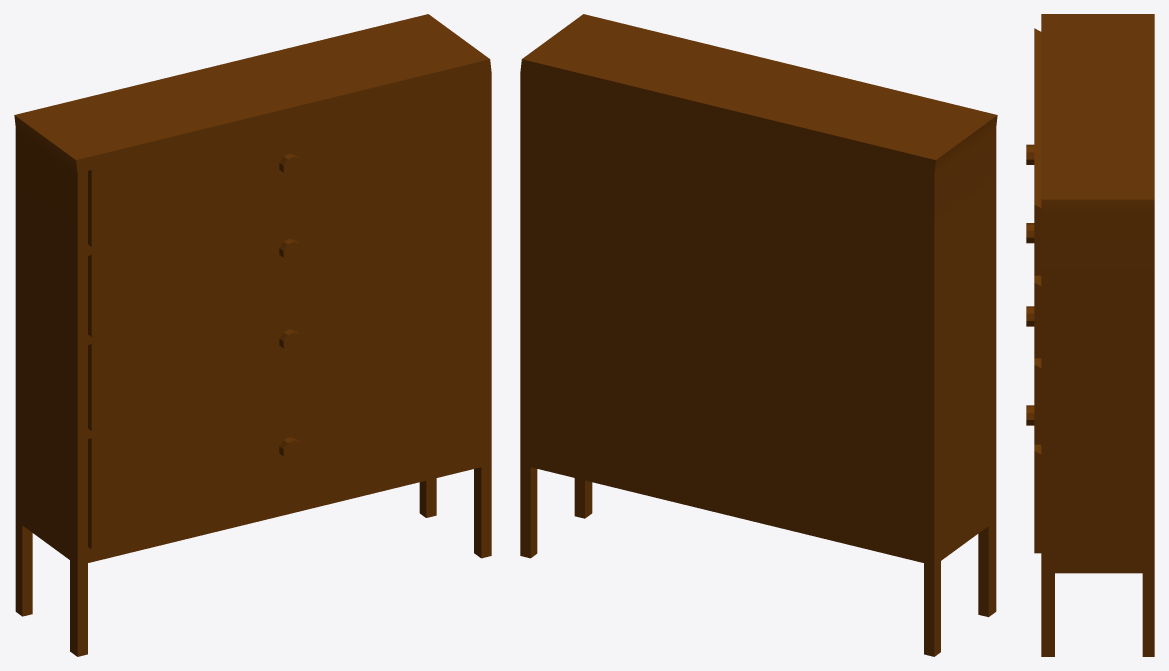
Rendered from CoD.fbx.
3 renders of one model, left to right at view 1: azimuth 30°, elevation 25°; view 2: azimuth 150°, elevation 25°; view 3: azimuth 270°, elevation 25°, orthographic. The views are drawn at different scales.
Parts seen in each view (by area): view 1: CHOD; view 2: CHOD; view 3: CHOD.
Part boxes in pixels (x1,y1,x2,y2): CHOD: [14, 14, 491, 656]; CHOD: [520, 14, 997, 656]; CHOD: [1026, 14, 1154, 656].
Size of the model in its own units: 803 by 918 by 234.
